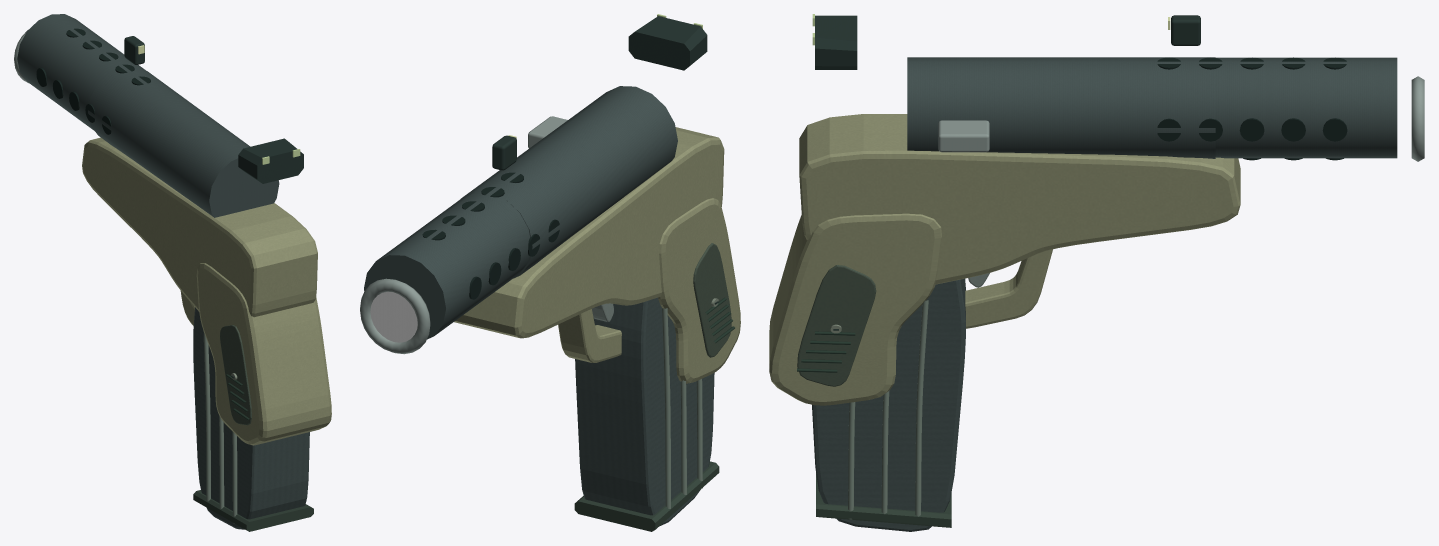
Rendered from tec9.glb.
The picture shows the model from 3 angles, left to right: view 1: azimuth 30°, elevation 25°; view 2: azimuth 150°, elevation 25°; view 3: azimuth 270°, elevation 25°; orthographic projection. The views are drawn at different scales.
Visible parts, largest first — view 1: tec9, bolt, magazine; view 2: tec9, magazine, bolt; view 3: tec9, bolt, magazine.
Part boxes in pixels (bbox=[...]): tec9: bbox=[14, 14, 331, 445]; bolt: bbox=[88, 36, 303, 217]; magazine: bbox=[193, 307, 313, 531]; tec9: bbox=[360, 127, 740, 383]; magazine: bbox=[574, 297, 719, 531]; bolt: bbox=[461, 14, 707, 278]; tec9: bbox=[769, 57, 1424, 405]; bolt: bbox=[812, 14, 1215, 158]; magazine: bbox=[812, 278, 965, 531].
Size of the model in its own units: 0.1292 by 0.4898 by 0.5845.
16 materials, 12 textured.
